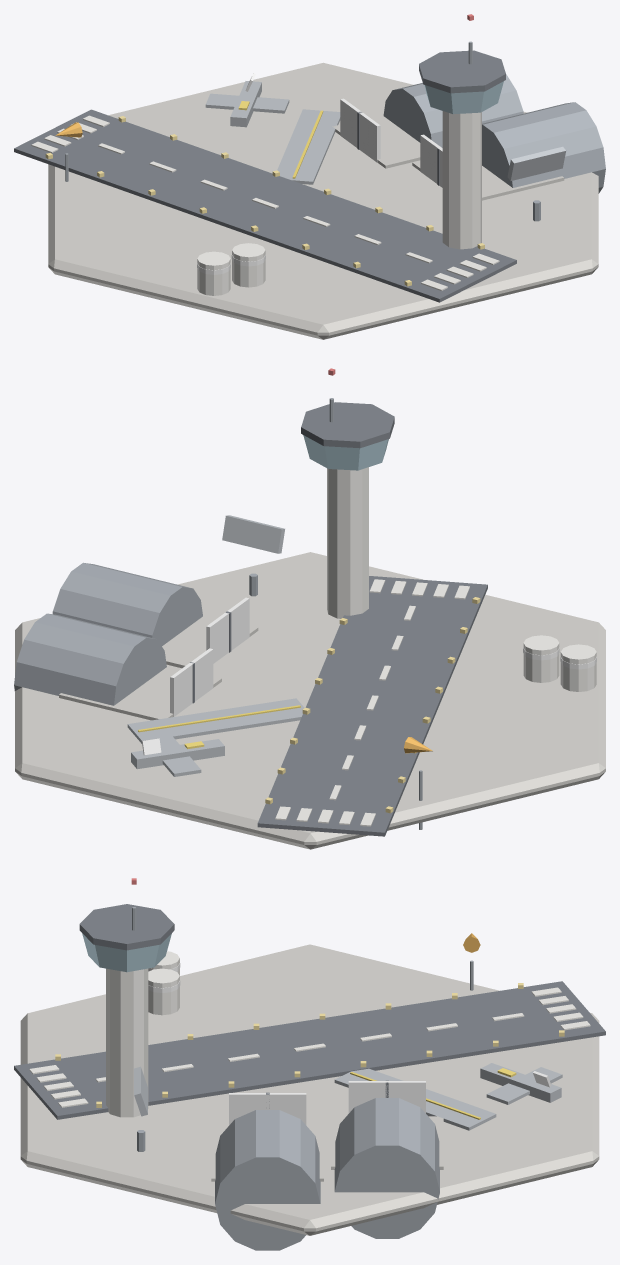
The model's file is airport.glb.
3 views of the same model, one above another, from view 1: azimuth 30°, elevation 25°; view 2: azimuth 150°, elevation 25°; view 3: azimuth 270°, elevation 25° (orthographic). The views are drawn at different scales.
Visible parts, largest first — view 1: main, rotor; view 2: main, rotor; view 3: main, rotor.
Part boxes in pixels (left/top/right/bottom): main: left=14, top=14, right=605, bottom=339; rotor: left=507, top=146, right=565, bottom=180; main: left=14, top=368, right=605, bottom=849; rotor: left=222, top=515, right=284, bottom=553; main: left=14, top=878, right=605, bottom=1250; rotor: left=134, top=1066, right=147, bottom=1116.
Size of the model in its own units: 1.88 by 0.8852 by 1.68.
